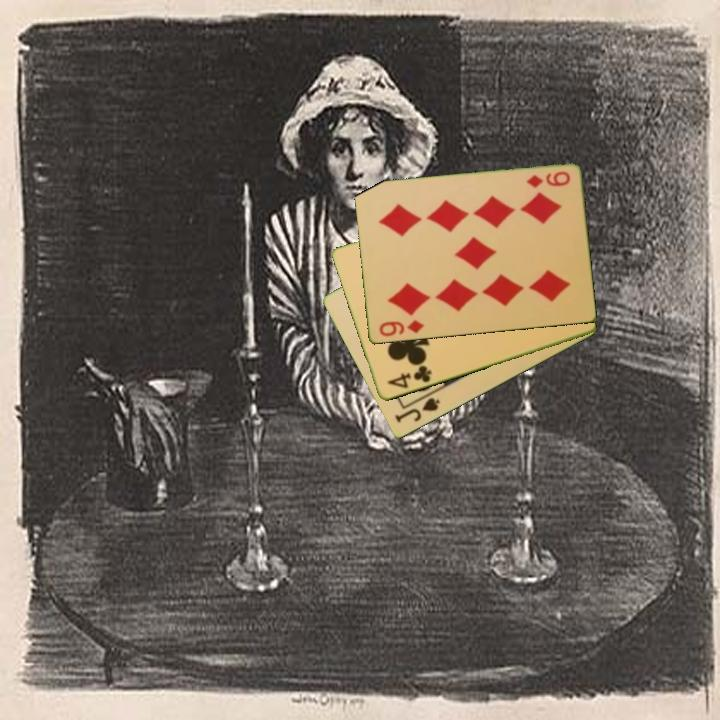4c: (384, 362, 434, 392)
9d: (523, 168, 573, 191), (375, 317, 427, 339)
Js: (391, 394, 443, 426)
